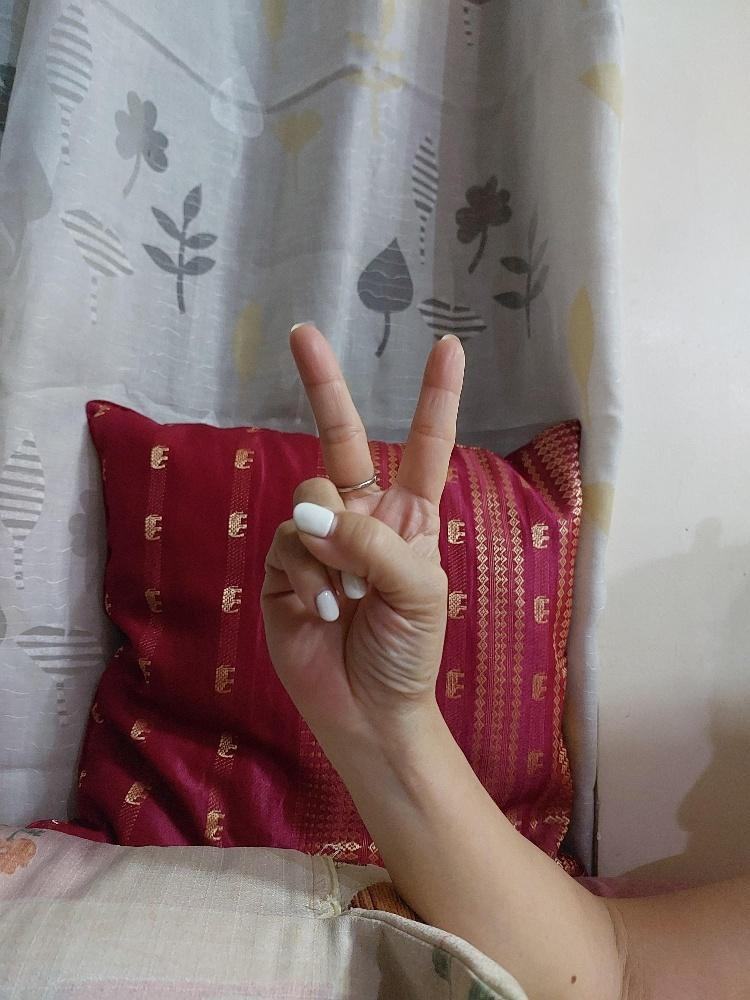v: (258, 318, 469, 714)
